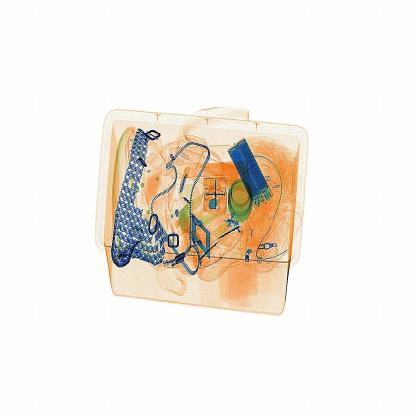pliers: (176, 157, 193, 200)
